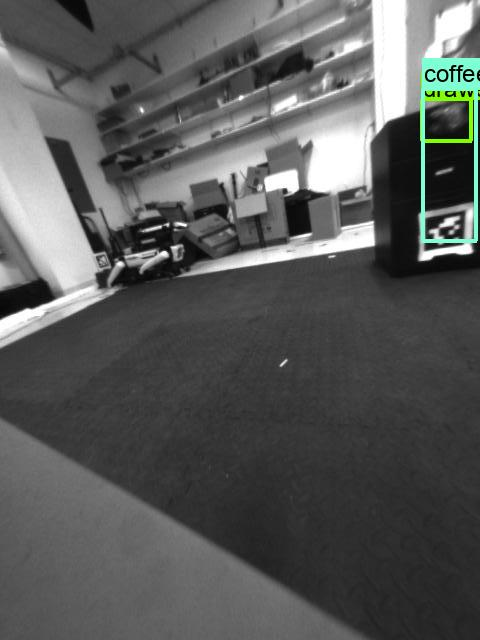drawer: (416, 97, 472, 141)
